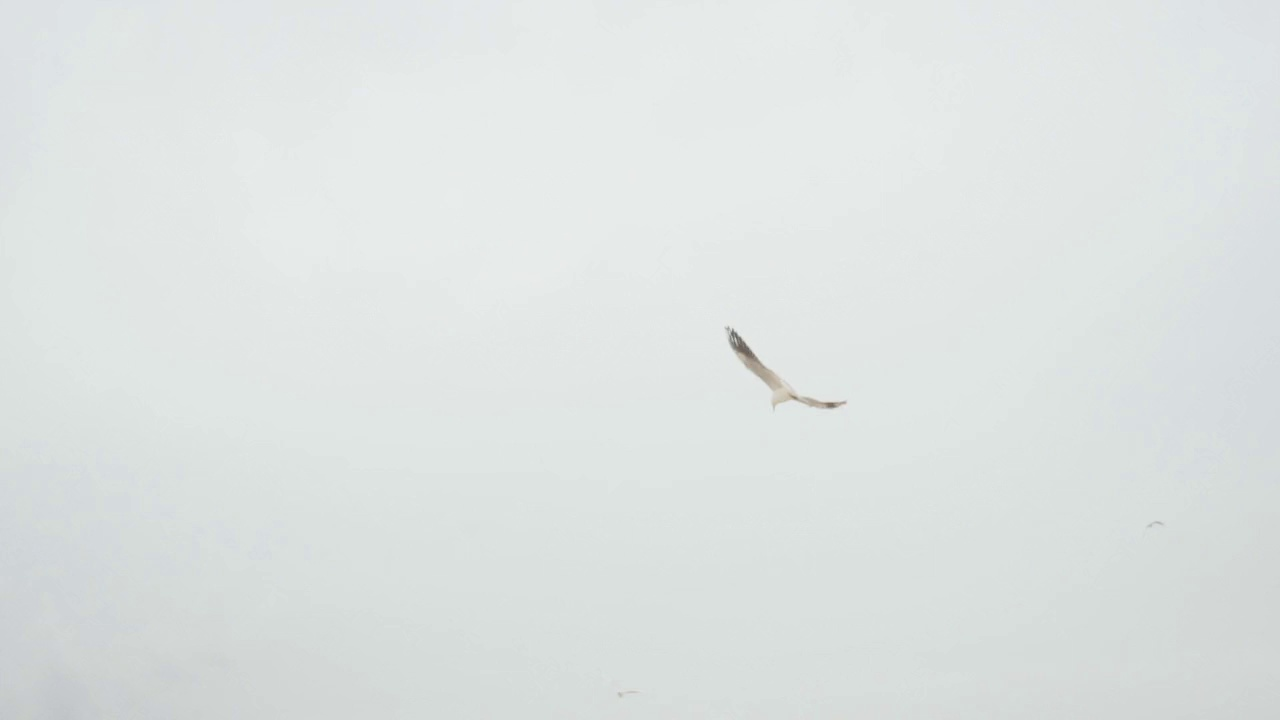bird: (726, 325, 846, 417)
